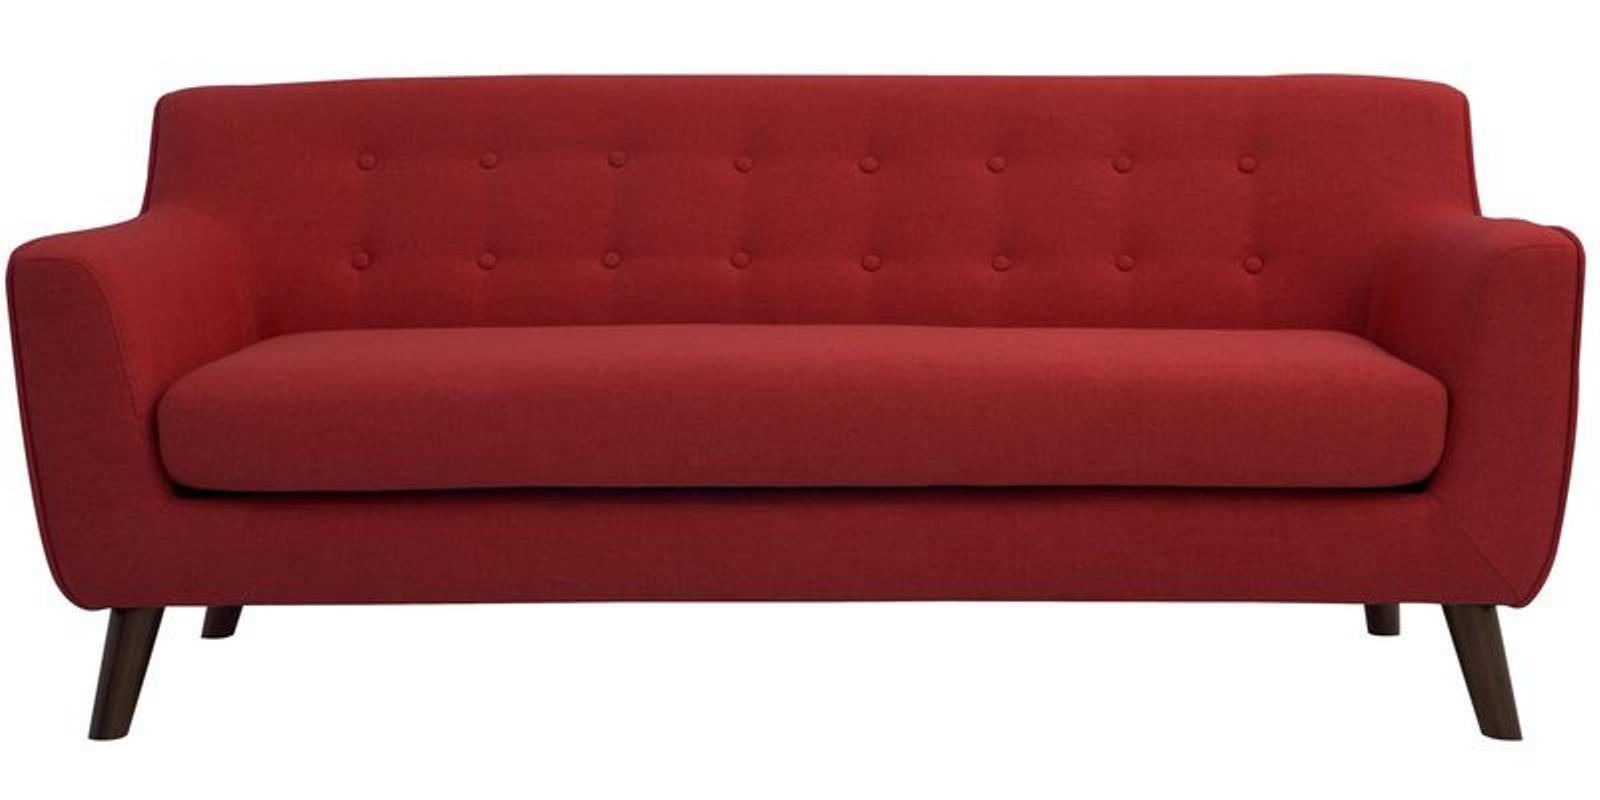Bogota Three Seater Sofa in Red Colour by CasaCraft: (11, 70, 1587, 750)
